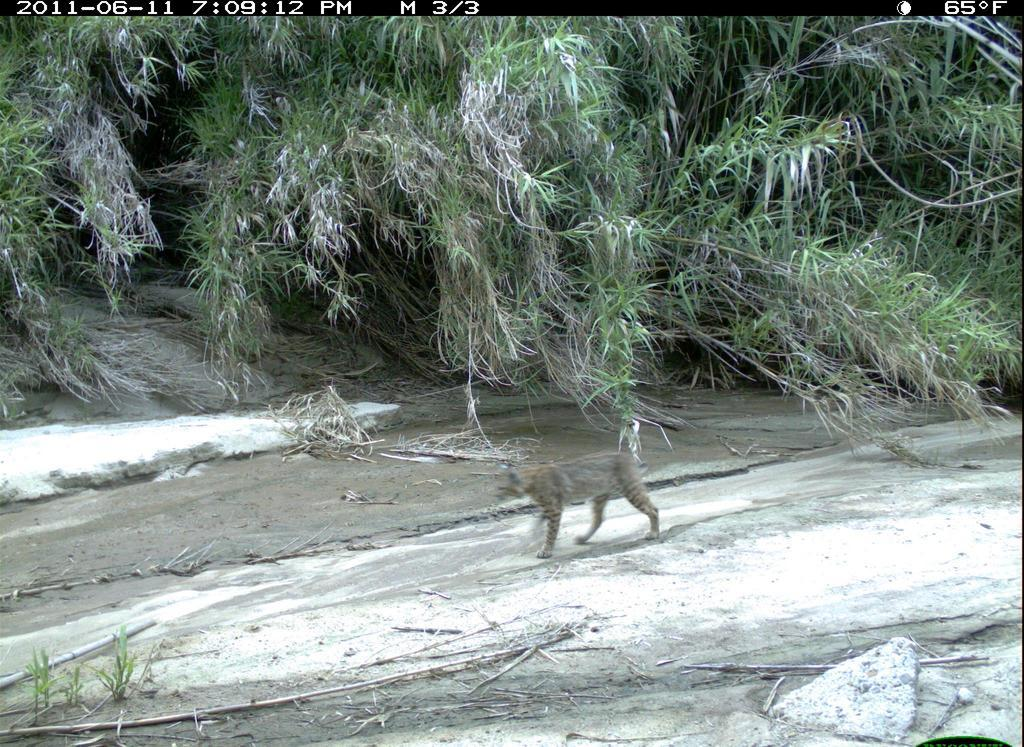bobcat: (489, 437, 667, 561)
